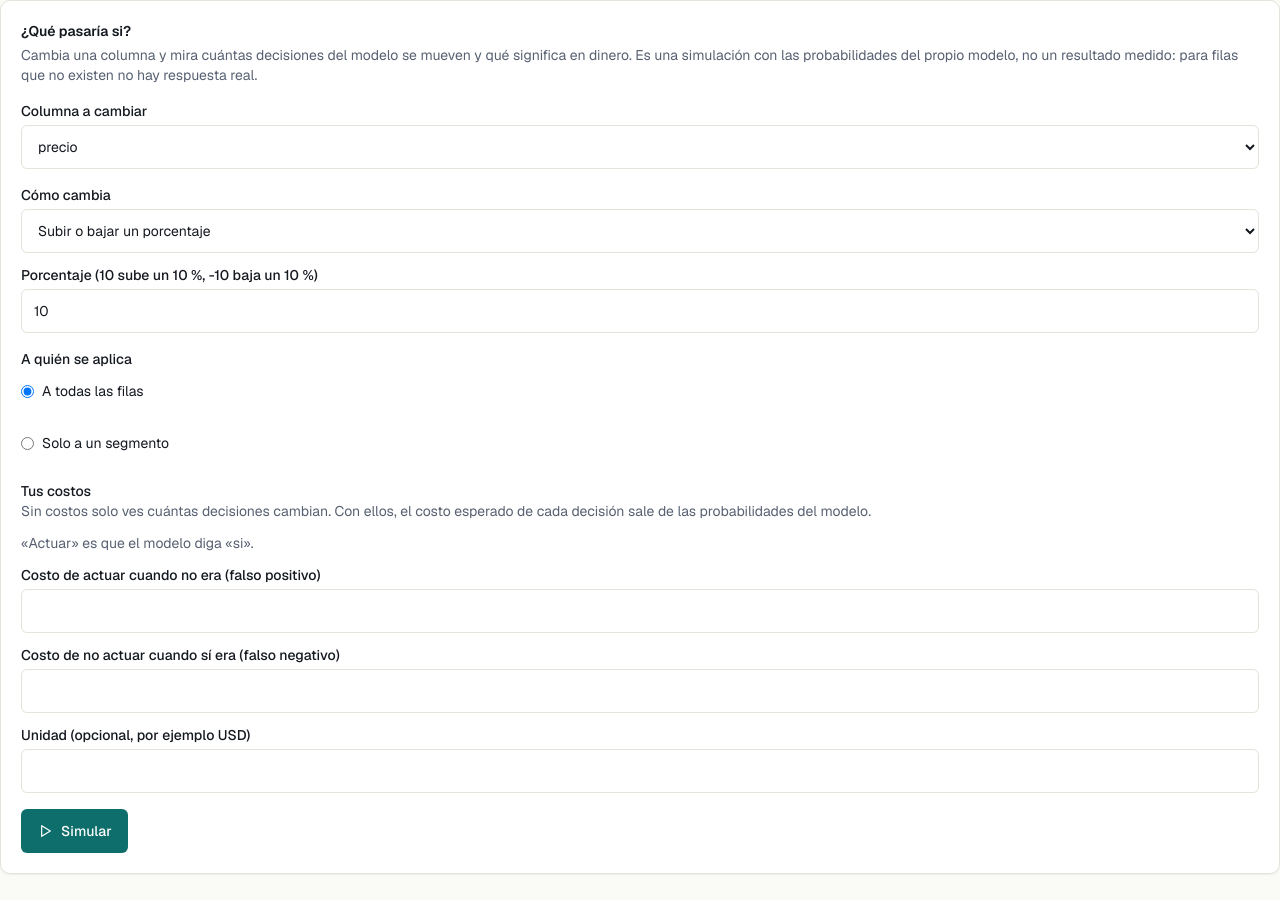
Test: el panel «¿Qué pasaría si?» › la respuesta de la columna de antes no pisa el reinicio cuando se cambia de columna (S21, lote 19-11)
The image size is (1280, 900).
Click the button "Simular": (74, 831) top-left (21, 809), bottom-right (128, 853)
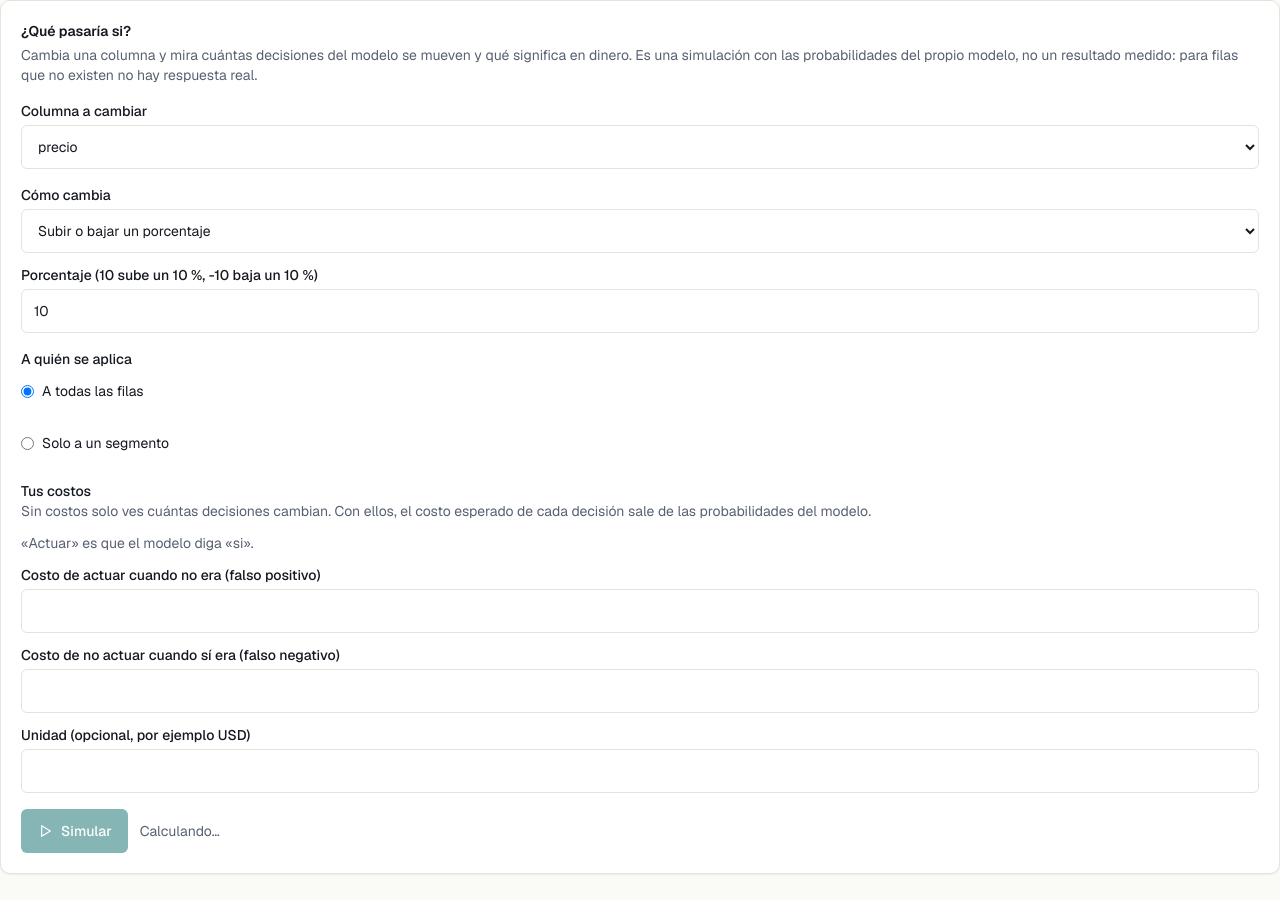
# el usuario cambia de columna mientras la primera respuesta viaja: el panel vuelve a empezar
Select "edad" in the dropdown labelled "Columna a cambiar": (640, 147) top-left (21, 125), bottom-right (1259, 169)
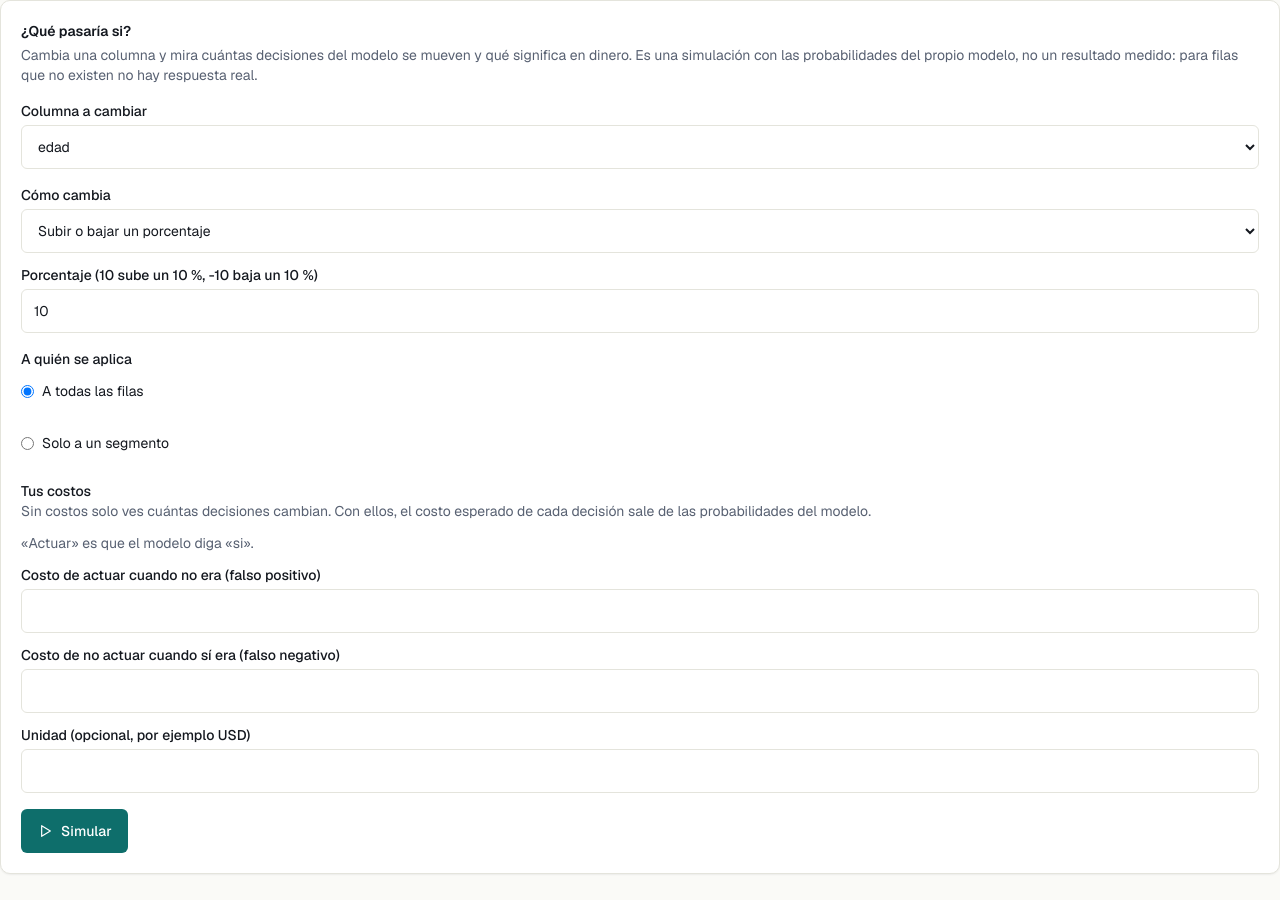
expect the button "Simular" is enabled: met, box top-left (21, 809), bottom-right (128, 853)
